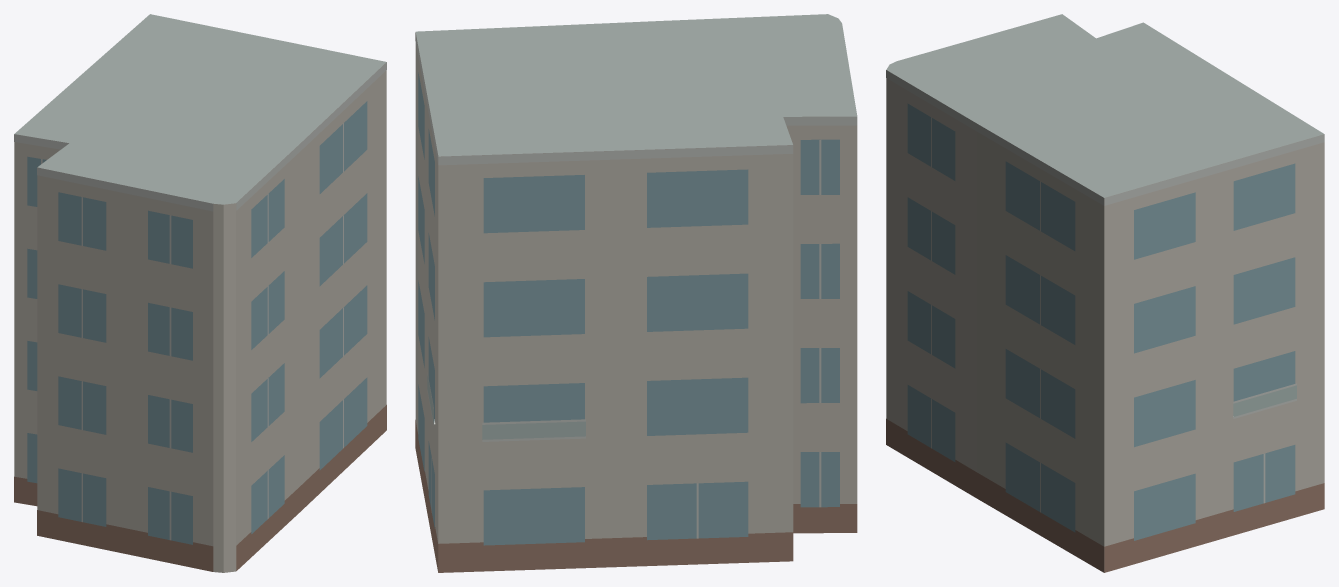
The model's file is survey-upis-32733892.glb.
The picture shows the model from 3 angles, left to right: view 1: azimuth 30°, elevation 25°; view 2: azimuth 150°, elevation 25°; view 3: azimuth 270°, elevation 25°; orthographic projection. The views are drawn at different scales.
Parts seen in each view (by area): view 1: survey-upis-32733892.tmp; view 2: survey-upis-32733892.tmp; view 3: survey-upis-32733892.tmp.
Boxes of the visible parts, x1,y1,x2,y2 form: survey-upis-32733892.tmp: (14, 14, 386, 572); survey-upis-32733892.tmp: (415, 14, 857, 572); survey-upis-32733892.tmp: (886, 14, 1324, 572).
Size of the model in its own units: 12 by 11.4 by 12.09.
